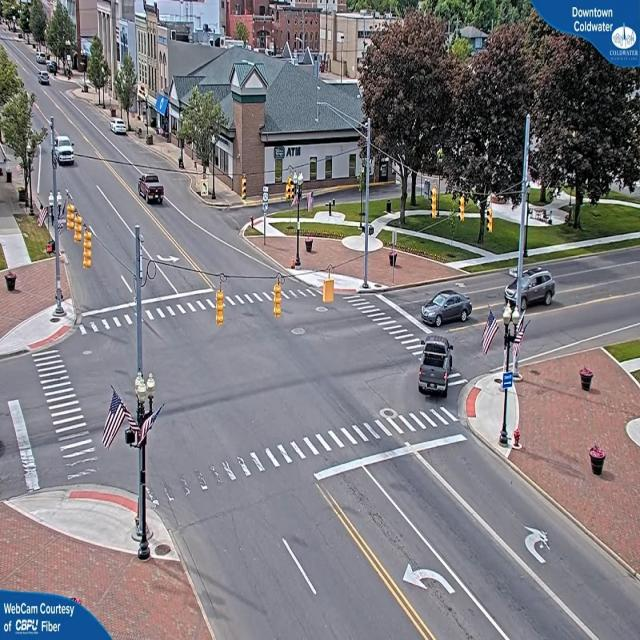car: (417, 339, 453, 398), (421, 290, 473, 328), (526, 265, 559, 309), (138, 175, 166, 207), (53, 134, 76, 167), (111, 119, 129, 136)
